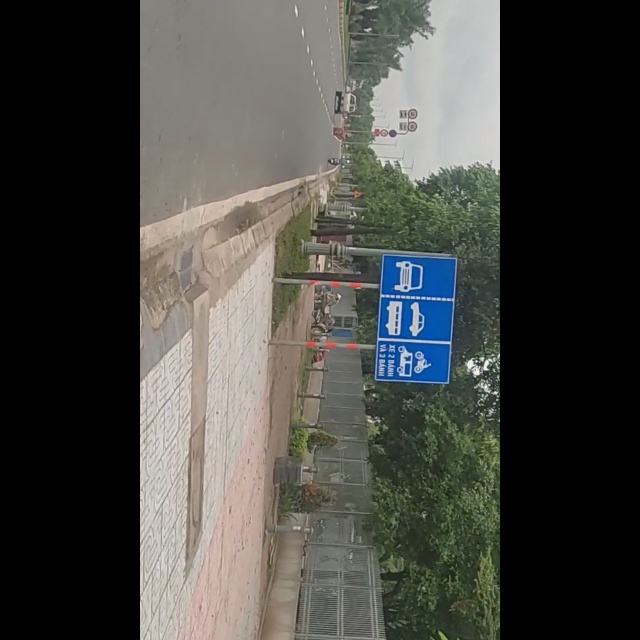bien_chi_dan: (420, 251, 557, 387)
